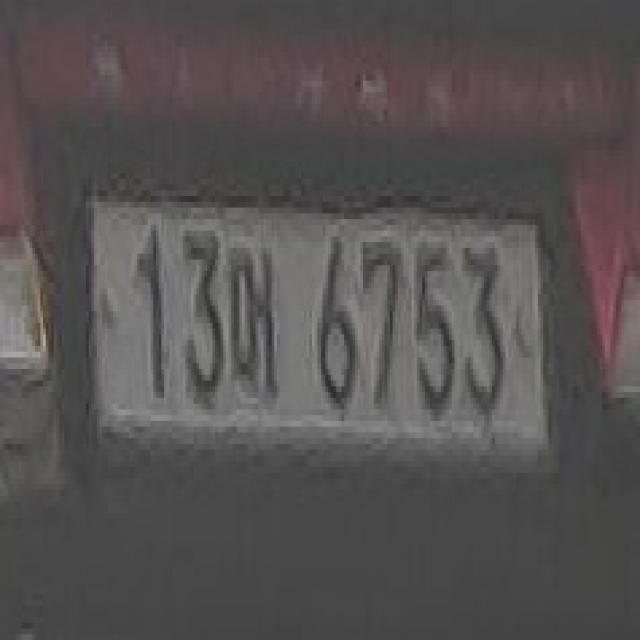1: (129, 213, 175, 421)
3: (180, 219, 226, 415), (462, 236, 506, 427)
5: (409, 225, 460, 432)
6: (310, 225, 360, 421)
7: (358, 230, 408, 432)
license_plate: (80, 179, 556, 490)
meo: (226, 242, 282, 415)
